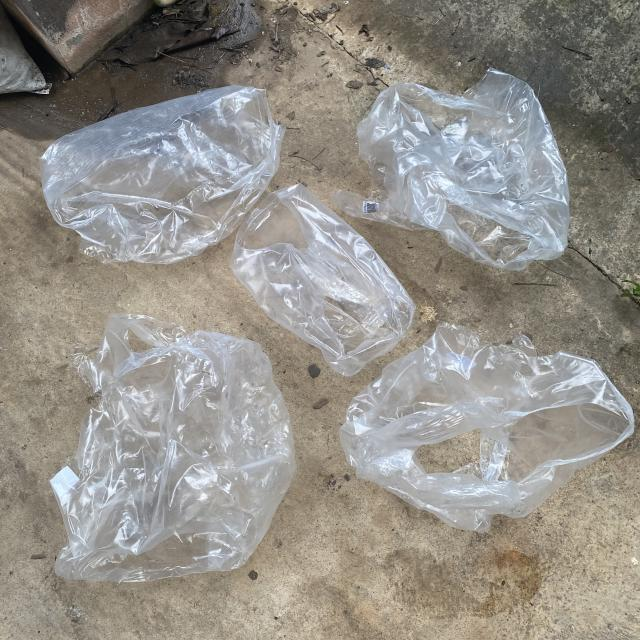Single-layer Plastic: (51, 314, 295, 582), (340, 324, 634, 532), (331, 69, 569, 270), (40, 86, 285, 264), (230, 184, 415, 376)
